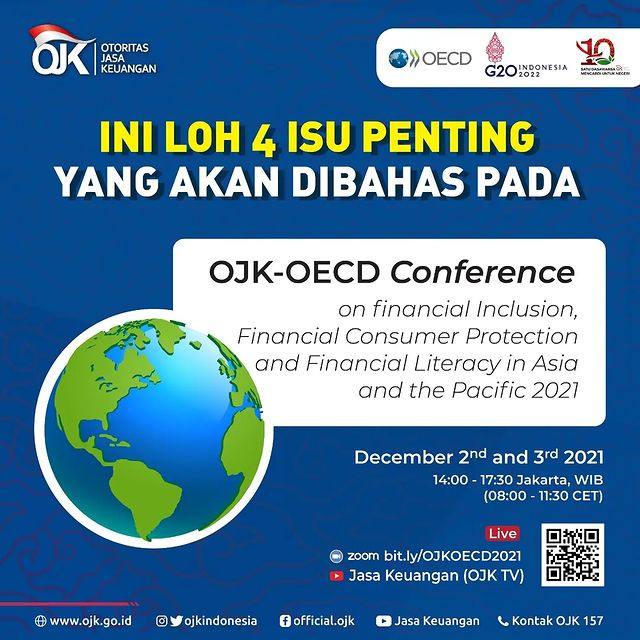ojk: (27, 21, 160, 76)
